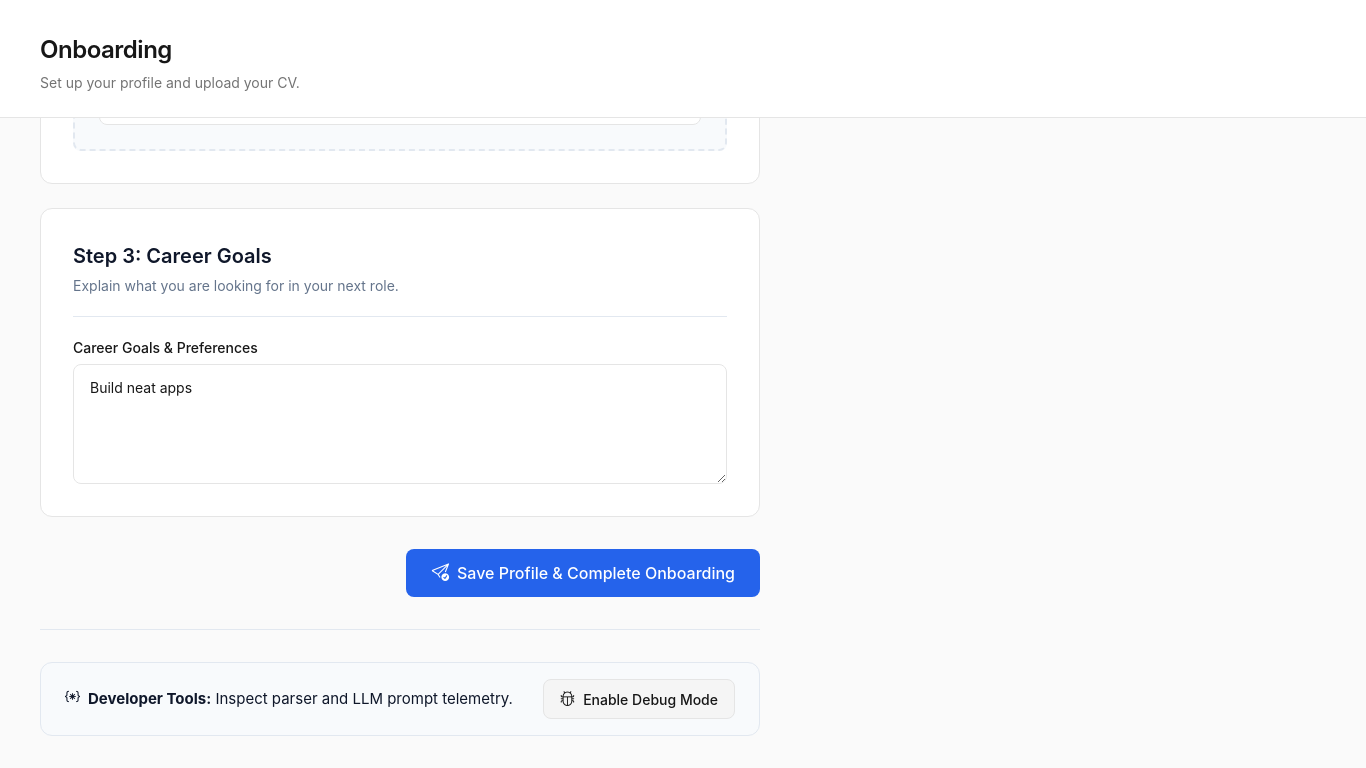
Test: Onboarding Component › shows developer debugging panel toggle when conditions are met and toggles it successfully
The image size is (1366, 768).
(page scrolled)
Check: the text "Enable Debug Mode" is shown, box [583, 688, 718, 710]
# Click to enable debug mode
What coordinates should you click on to do the following:
click the button "Enable Debug Mode"
I would click on:
 (639, 699)
Its box is [543, 679, 735, 719].
(page scrolled)
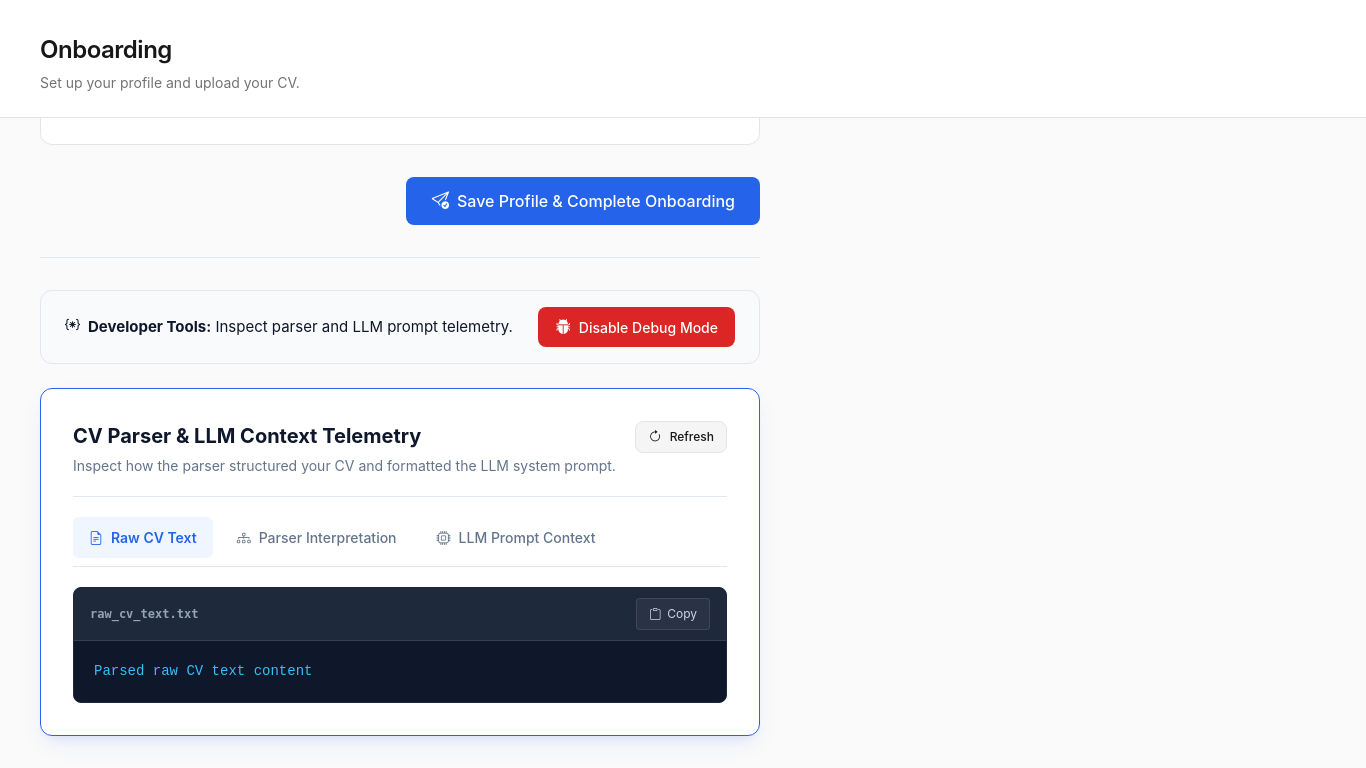
Check: the heading "CV Parser & LLM Context Telemetry" is shown, box [73, 424, 421, 448]
Check: the text "raw_cv_text.txt" is shown, box [90, 605, 198, 623]
Check: the text "Parsed raw CV text content" is shown, box [74, 641, 726, 702]
# Switch tab to Parser Interpretation
What coordinates should you click on to do the following:
click the tab "Parser Interpretation"
I would click on:
 (317, 538)
Its box is [221, 517, 413, 558].
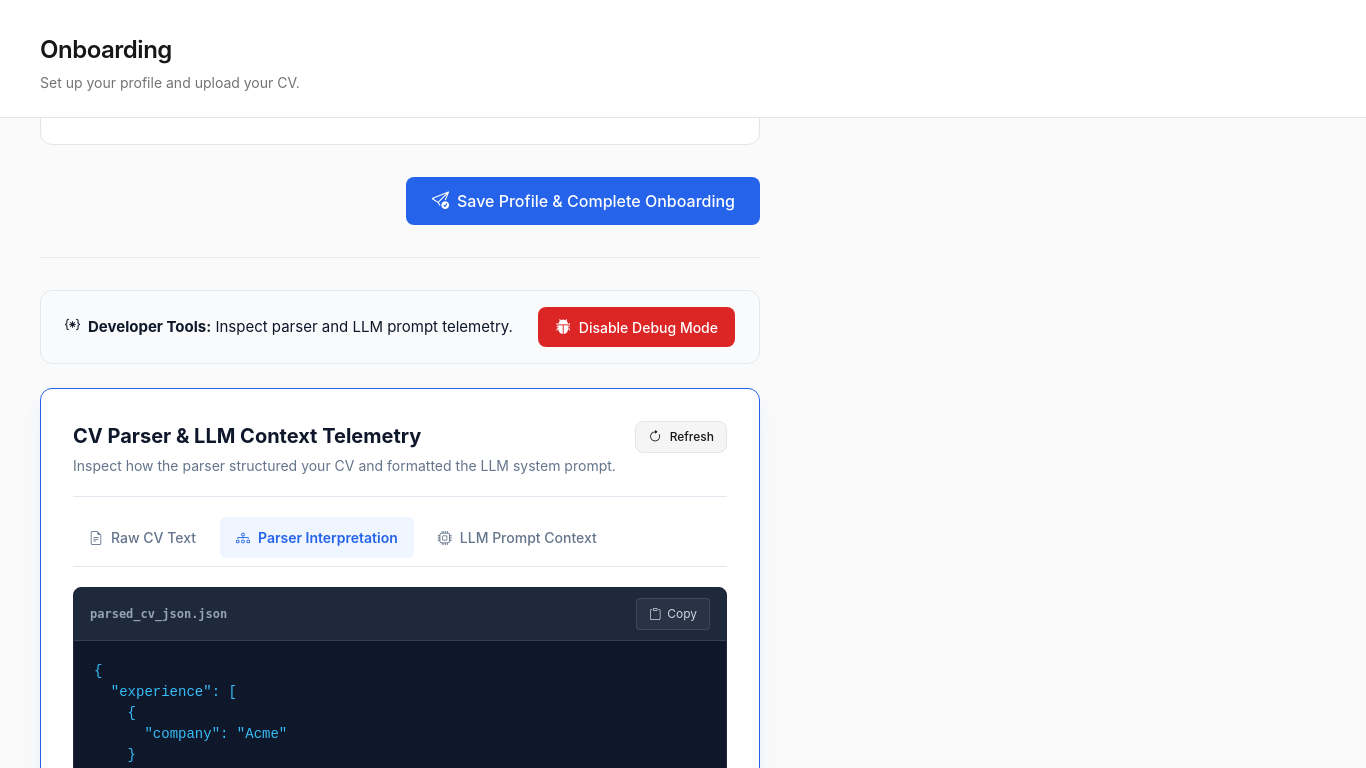
Check: the text "parsed_cv_json.json" is shown, box [90, 605, 227, 623]
# Disable debug mode
What coordinates should you click on to do the following:
click the button "Disable Debug Mode"
I would click on:
 (637, 327)
Its box is [538, 307, 735, 347].
(page scrolled)
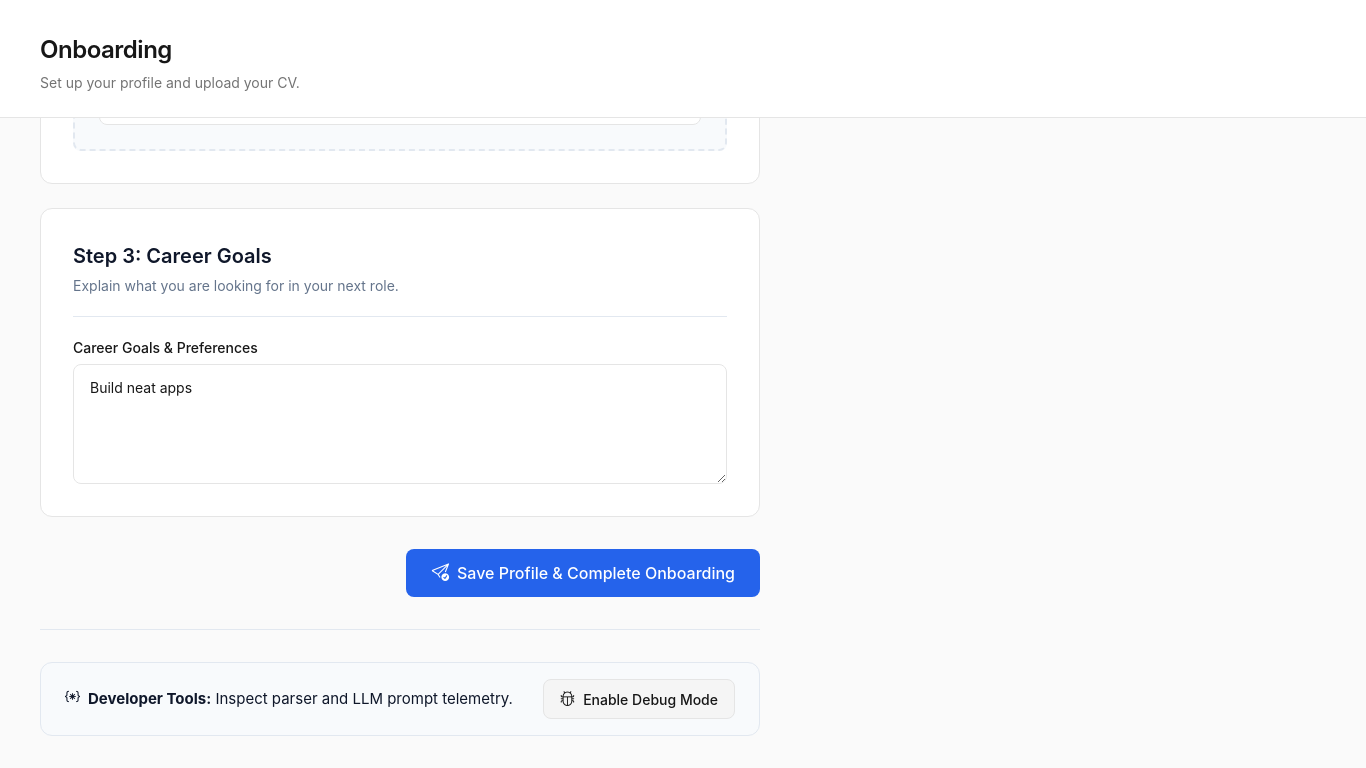
Check: the heading "CV Parser & LLM Context Telemetry" is gone
